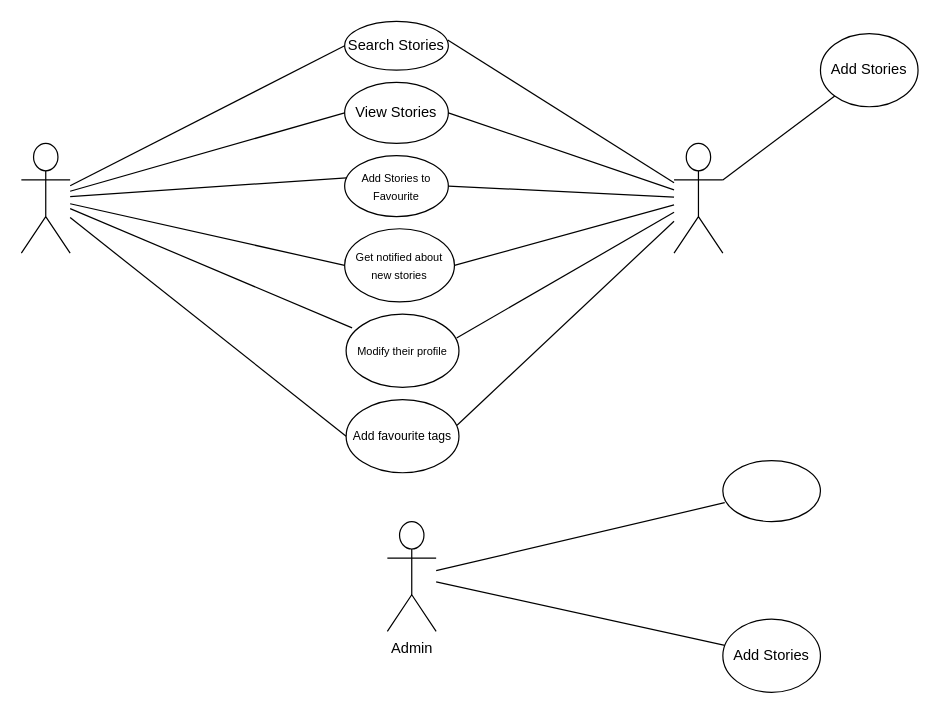
Image size: 939x714. Some labels were removed from this diagram. The centre of each missing label's shape, as x and y in pixels:
"Journalist" goes at pixel 698 197.
"Manage Users" goes at pixel 771 490.
"User" goes at pixel 45 197.
